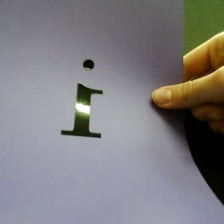violet1: (55, 56, 112, 145)
